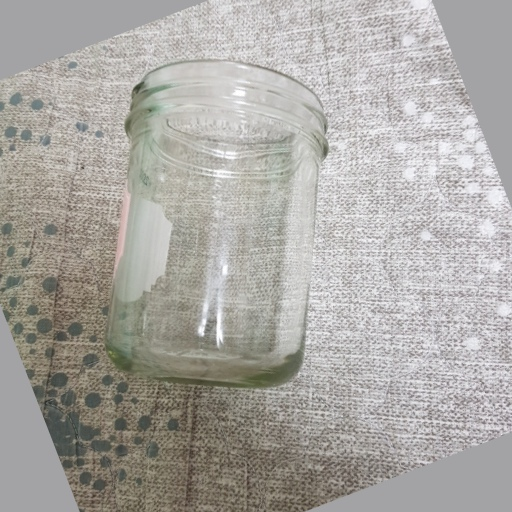Glass_5: (102, 59, 330, 390)
